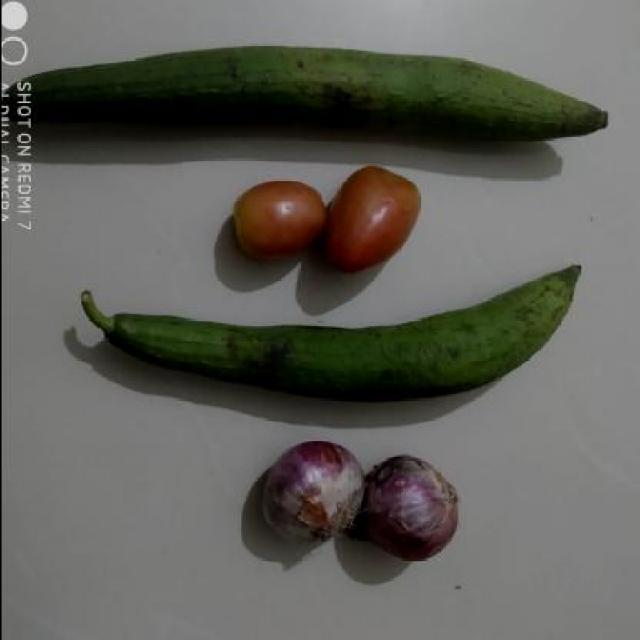onion: (351, 458, 458, 568), (256, 443, 361, 554)
tomato: (320, 169, 428, 280), (211, 171, 329, 267)
